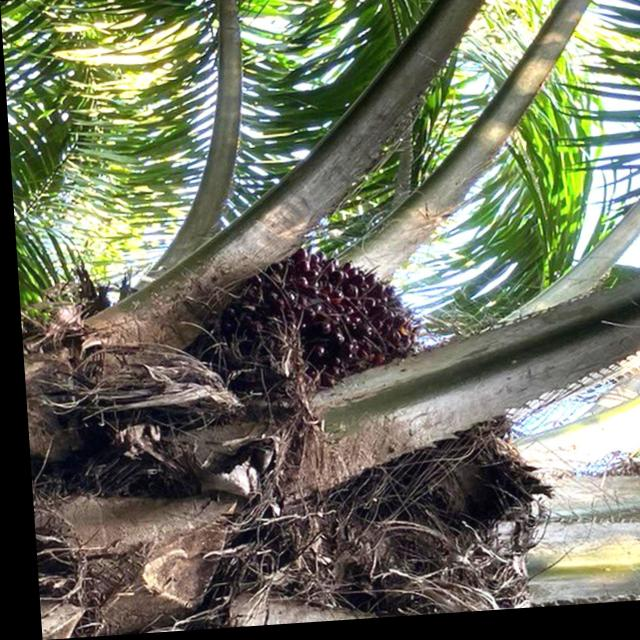ripe: (194, 233, 430, 400)
